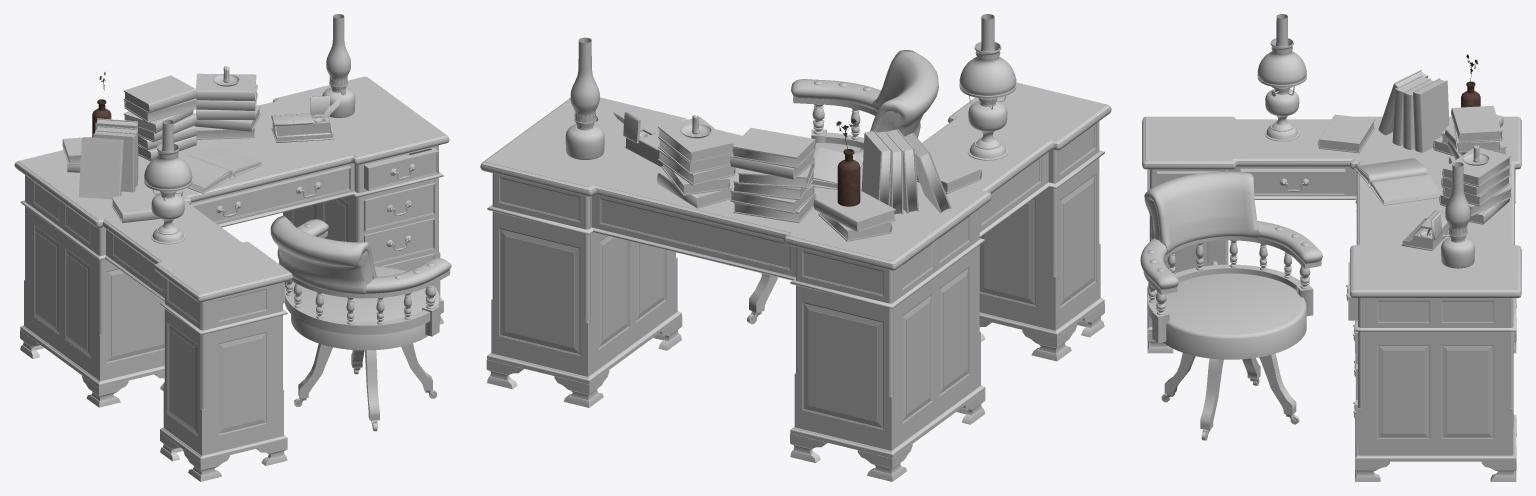
Rendered from Desk Scene.fbx.
3 renders of one model, left to right at view 1: azimuth 30°, elevation 25°; view 2: azimuth 150°, elevation 25°; view 3: azimuth 270°, elevation 25°, orthographic. The views are drawn at different scales.
Parts seen in each view (by area): view 1: Desk_low, Desk_Extension_low, Chair_low, Book Pile 5_low, Book Pile 1_low, Draw3_low, Book Pile 2_low, Open Book_low, Draw4_low, Inkstand_low, Shade_low.001, Oil Lamp_low.001 (+4 smaller); view 2: Desk_low, Desk_Extension_low, Chair_low, Book Pile 1_low, Book Pile 5_low, Book Pile 2_low, Book Pile 4_low, Shade_low.001, Oil Lamp_low.001, Glass_low.002, Oil Lamp Small_low.001, Inkstand_low (+2 smaller); view 3: Desk_low, Chair_low, Desk_Extension_low, Book Pile 5_low, Book Pile 2_low, Open Book_low, Draw2_low, Book Pile 1_low, Shade_low.001, Oil Lamp_low.001, Inkstand_low, Glass_low.002 (+3 smaller).
Part boxes in pixels (x1=…): Desk_low: x1=14, y1=76, x2=449, y2=407; Desk_Extension_low: x1=102, y1=200, x2=292, y2=481; Chair_low: x1=270, y1=215, x2=451, y2=431; Book Pile 5_low: x1=78, y1=118, x2=160, y2=223; Book Pile 1_low: x1=123, y1=75, x2=196, y2=161; Draw3_low: x1=191, y1=165, x2=351, y2=223; Book Pile 2_low: x1=193, y1=73, x2=260, y2=139; Open Book_low: x1=180, y1=145, x2=262, y2=193; Draw4_low: x1=364, y1=148, x2=438, y2=191; Inkstand_low: x1=271, y1=96, x2=334, y2=142; Shade_low.001: x1=144, y1=143, x2=192, y2=200; Oil Lamp_low.001: x1=151, y1=191, x2=185, y2=244; Desk_low: x1=480, y1=97, x2=991, y2=481; Desk_Extension_low: x1=922, y1=82, x2=1111, y2=361; Chair_low: x1=747, y1=50, x2=938, y2=324; Book Pile 1_low: x1=730, y1=128, x2=816, y2=223; Book Pile 5_low: x1=861, y1=129, x2=981, y2=214; Book Pile 2_low: x1=657, y1=117, x2=735, y2=208; Book Pile 4_low: x1=813, y1=190, x2=895, y2=241; Shade_low.001: x1=959, y1=42, x2=1016, y2=109; Oil Lamp_low.001: x1=967, y1=98, x2=1008, y2=160; Glass_low.002: x1=570, y1=37, x2=599, y2=121; Oil Lamp Small_low.001: x1=565, y1=111, x2=604, y2=159; Inkstand_low: x1=623, y1=112, x2=662, y2=166; Desk_low: x1=1350, y1=116, x2=1521, y2=481; Chair_low: x1=1140, y1=171, x2=1322, y2=440; Desk_Extension_low: x1=1142, y1=116, x2=1356, y2=353; Book Pile 5_low: x1=1318, y1=70, x2=1449, y2=153; Book Pile 2_low: x1=1439, y1=147, x2=1511, y2=224; Open Book_low: x1=1354, y1=158, x2=1441, y2=205; Draw2_low: x1=1240, y1=168, x2=1345, y2=195; Book Pile 1_low: x1=1445, y1=105, x2=1506, y2=163; Shade_low.001: x1=1257, y1=38, x2=1306, y2=95; Oil Lamp_low.001: x1=1264, y1=87, x2=1299, y2=141; Inkstand_low: x1=1401, y1=210, x2=1448, y2=250; Glass_low.002: x1=1445, y1=162, x2=1470, y2=234.
Size of the model in its own units: 161 by 132 by 147.
